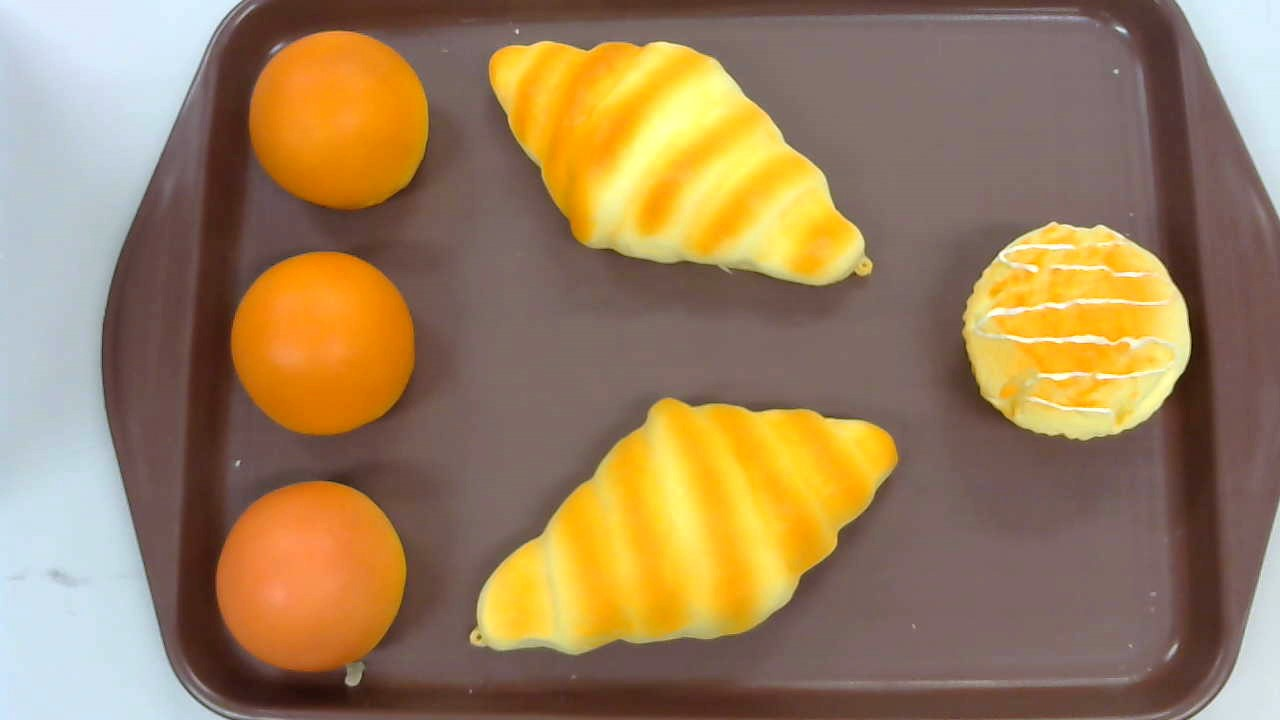bun: (216, 479, 406, 672), (231, 251, 413, 436), (248, 31, 427, 210)
croissant: (468, 397, 898, 657), (488, 41, 873, 286)
cupcake: (961, 221, 1192, 441)
